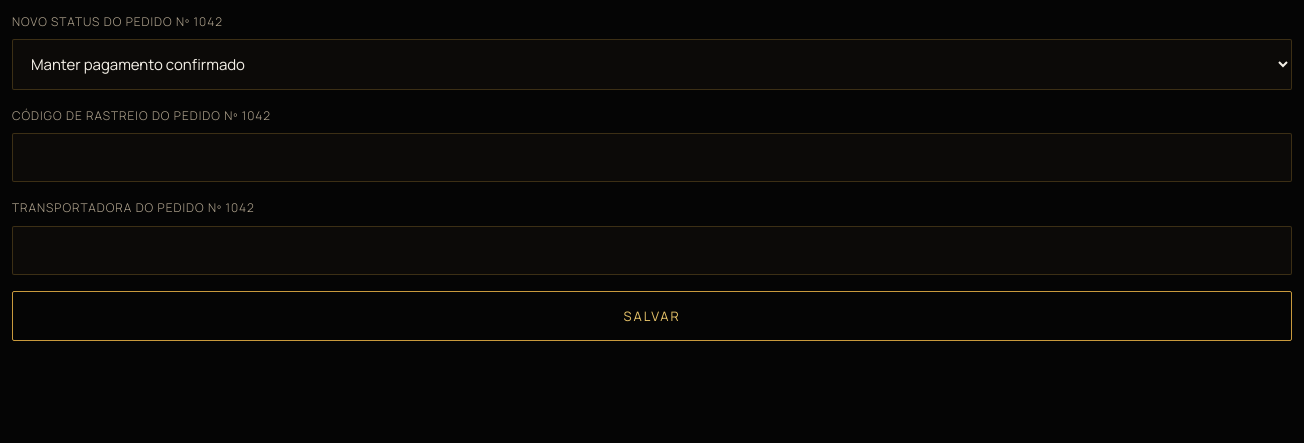
ExpedicaoPedido › mostra a mensagem que a rota devolveu quando ela recusa
Select "Enviado" in the dropdown labelled "Novo status do pedido nº 1042" at (652, 65), box [12,39,1292,90]
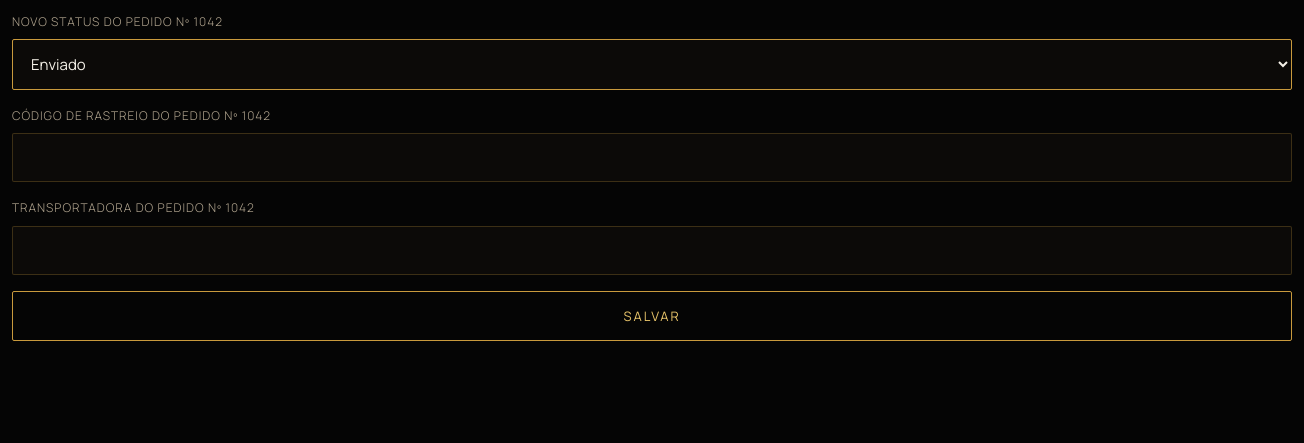
Click the button "Salvar" at (652, 316), box [12,291,1292,341]
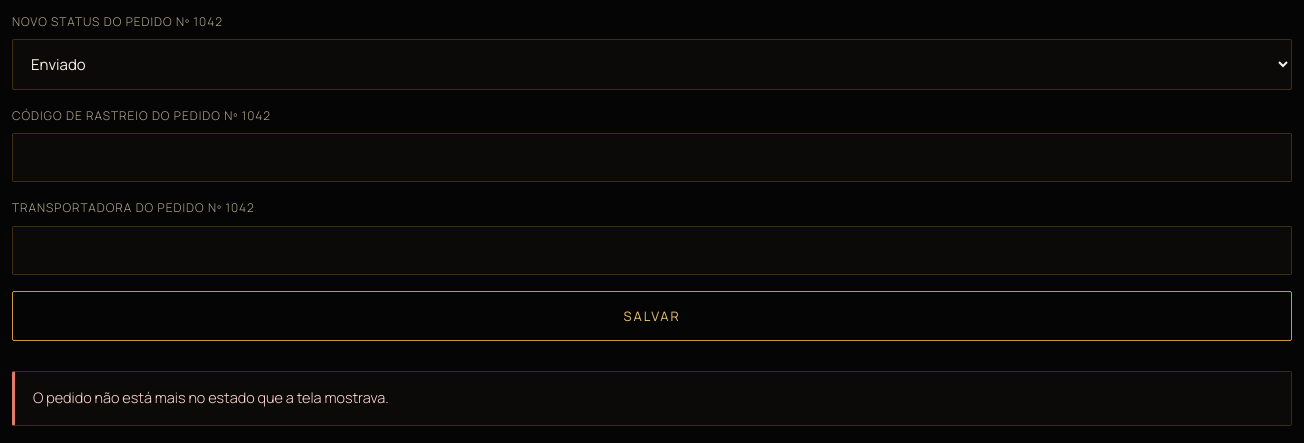
Result: the message with test id "mensagem-expedicao" shows "não está mais no estado que a tela mostrava" at [33,388,389,407]
